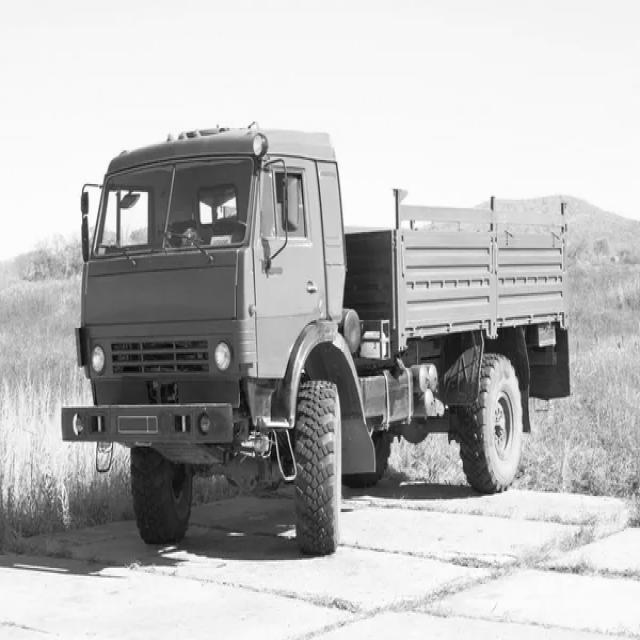Truck: (61, 127, 572, 556)
